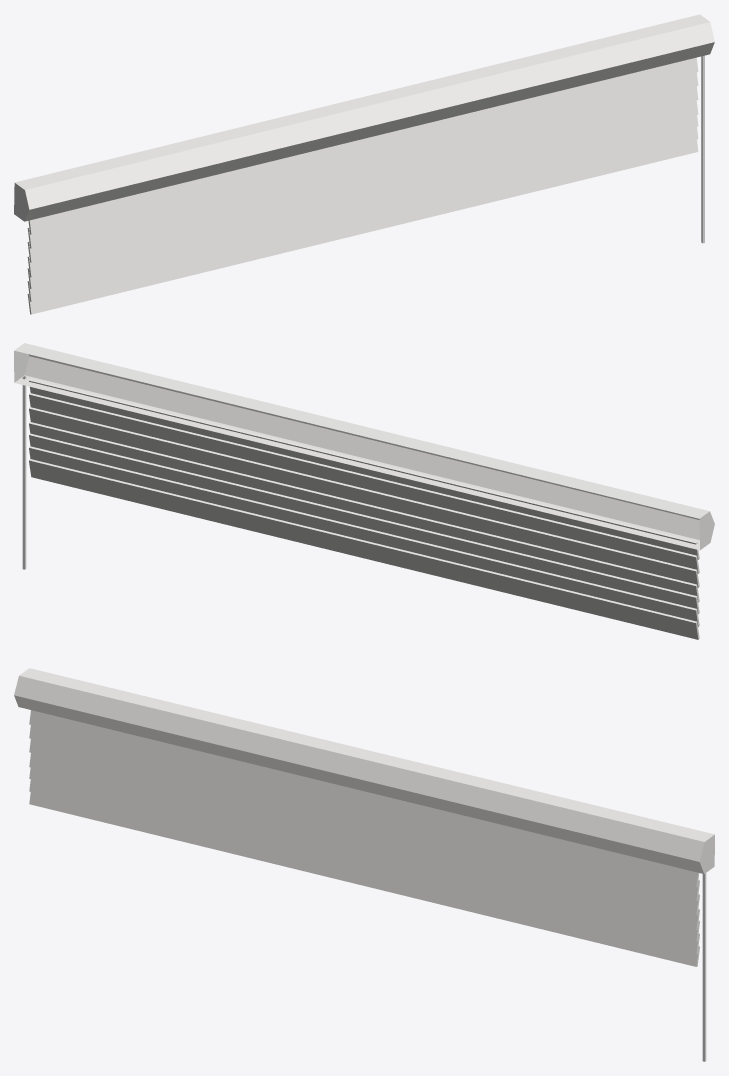
Rendered from Blinds_2.fbx.
The picture shows the model from 3 angles, top to bottom: view 1: azimuth 30°, elevation 25°; view 2: azimuth 150°, elevation 25°; view 3: azimuth 330°, elevation 25°; orthographic projection.
Visible parts, largest first — view 1: Blinds_2; view 2: Blinds_2; view 3: Blinds_2.
Part boxes in pixels (left/top/right/bottom): Blinds_2: left=14, top=14, right=714, bottom=314; Blinds_2: left=14, top=343, right=714, bottom=639; Blinds_2: left=14, top=668, right=714, bottom=1061.
Size of the model in its own units: 366 by 14 by 113.
